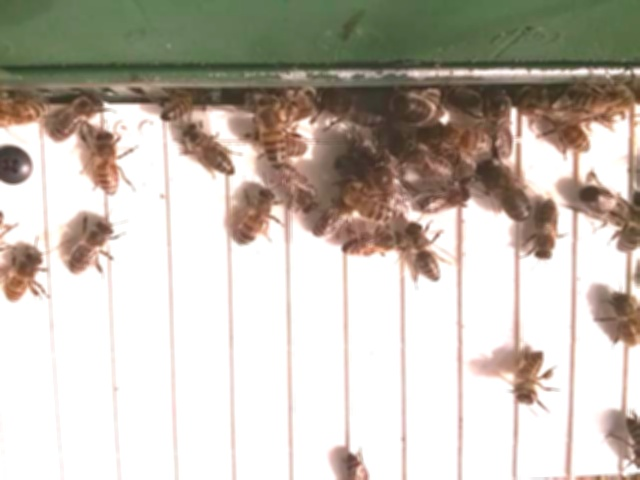Drone: (472, 157, 535, 226)
Worker: (182, 124, 236, 179), (230, 186, 276, 250), (68, 217, 116, 276), (404, 220, 444, 286), (5, 245, 46, 305), (259, 94, 289, 174), (514, 347, 550, 408), (339, 230, 405, 262), (531, 197, 562, 263), (94, 128, 122, 201), (610, 289, 640, 352)
